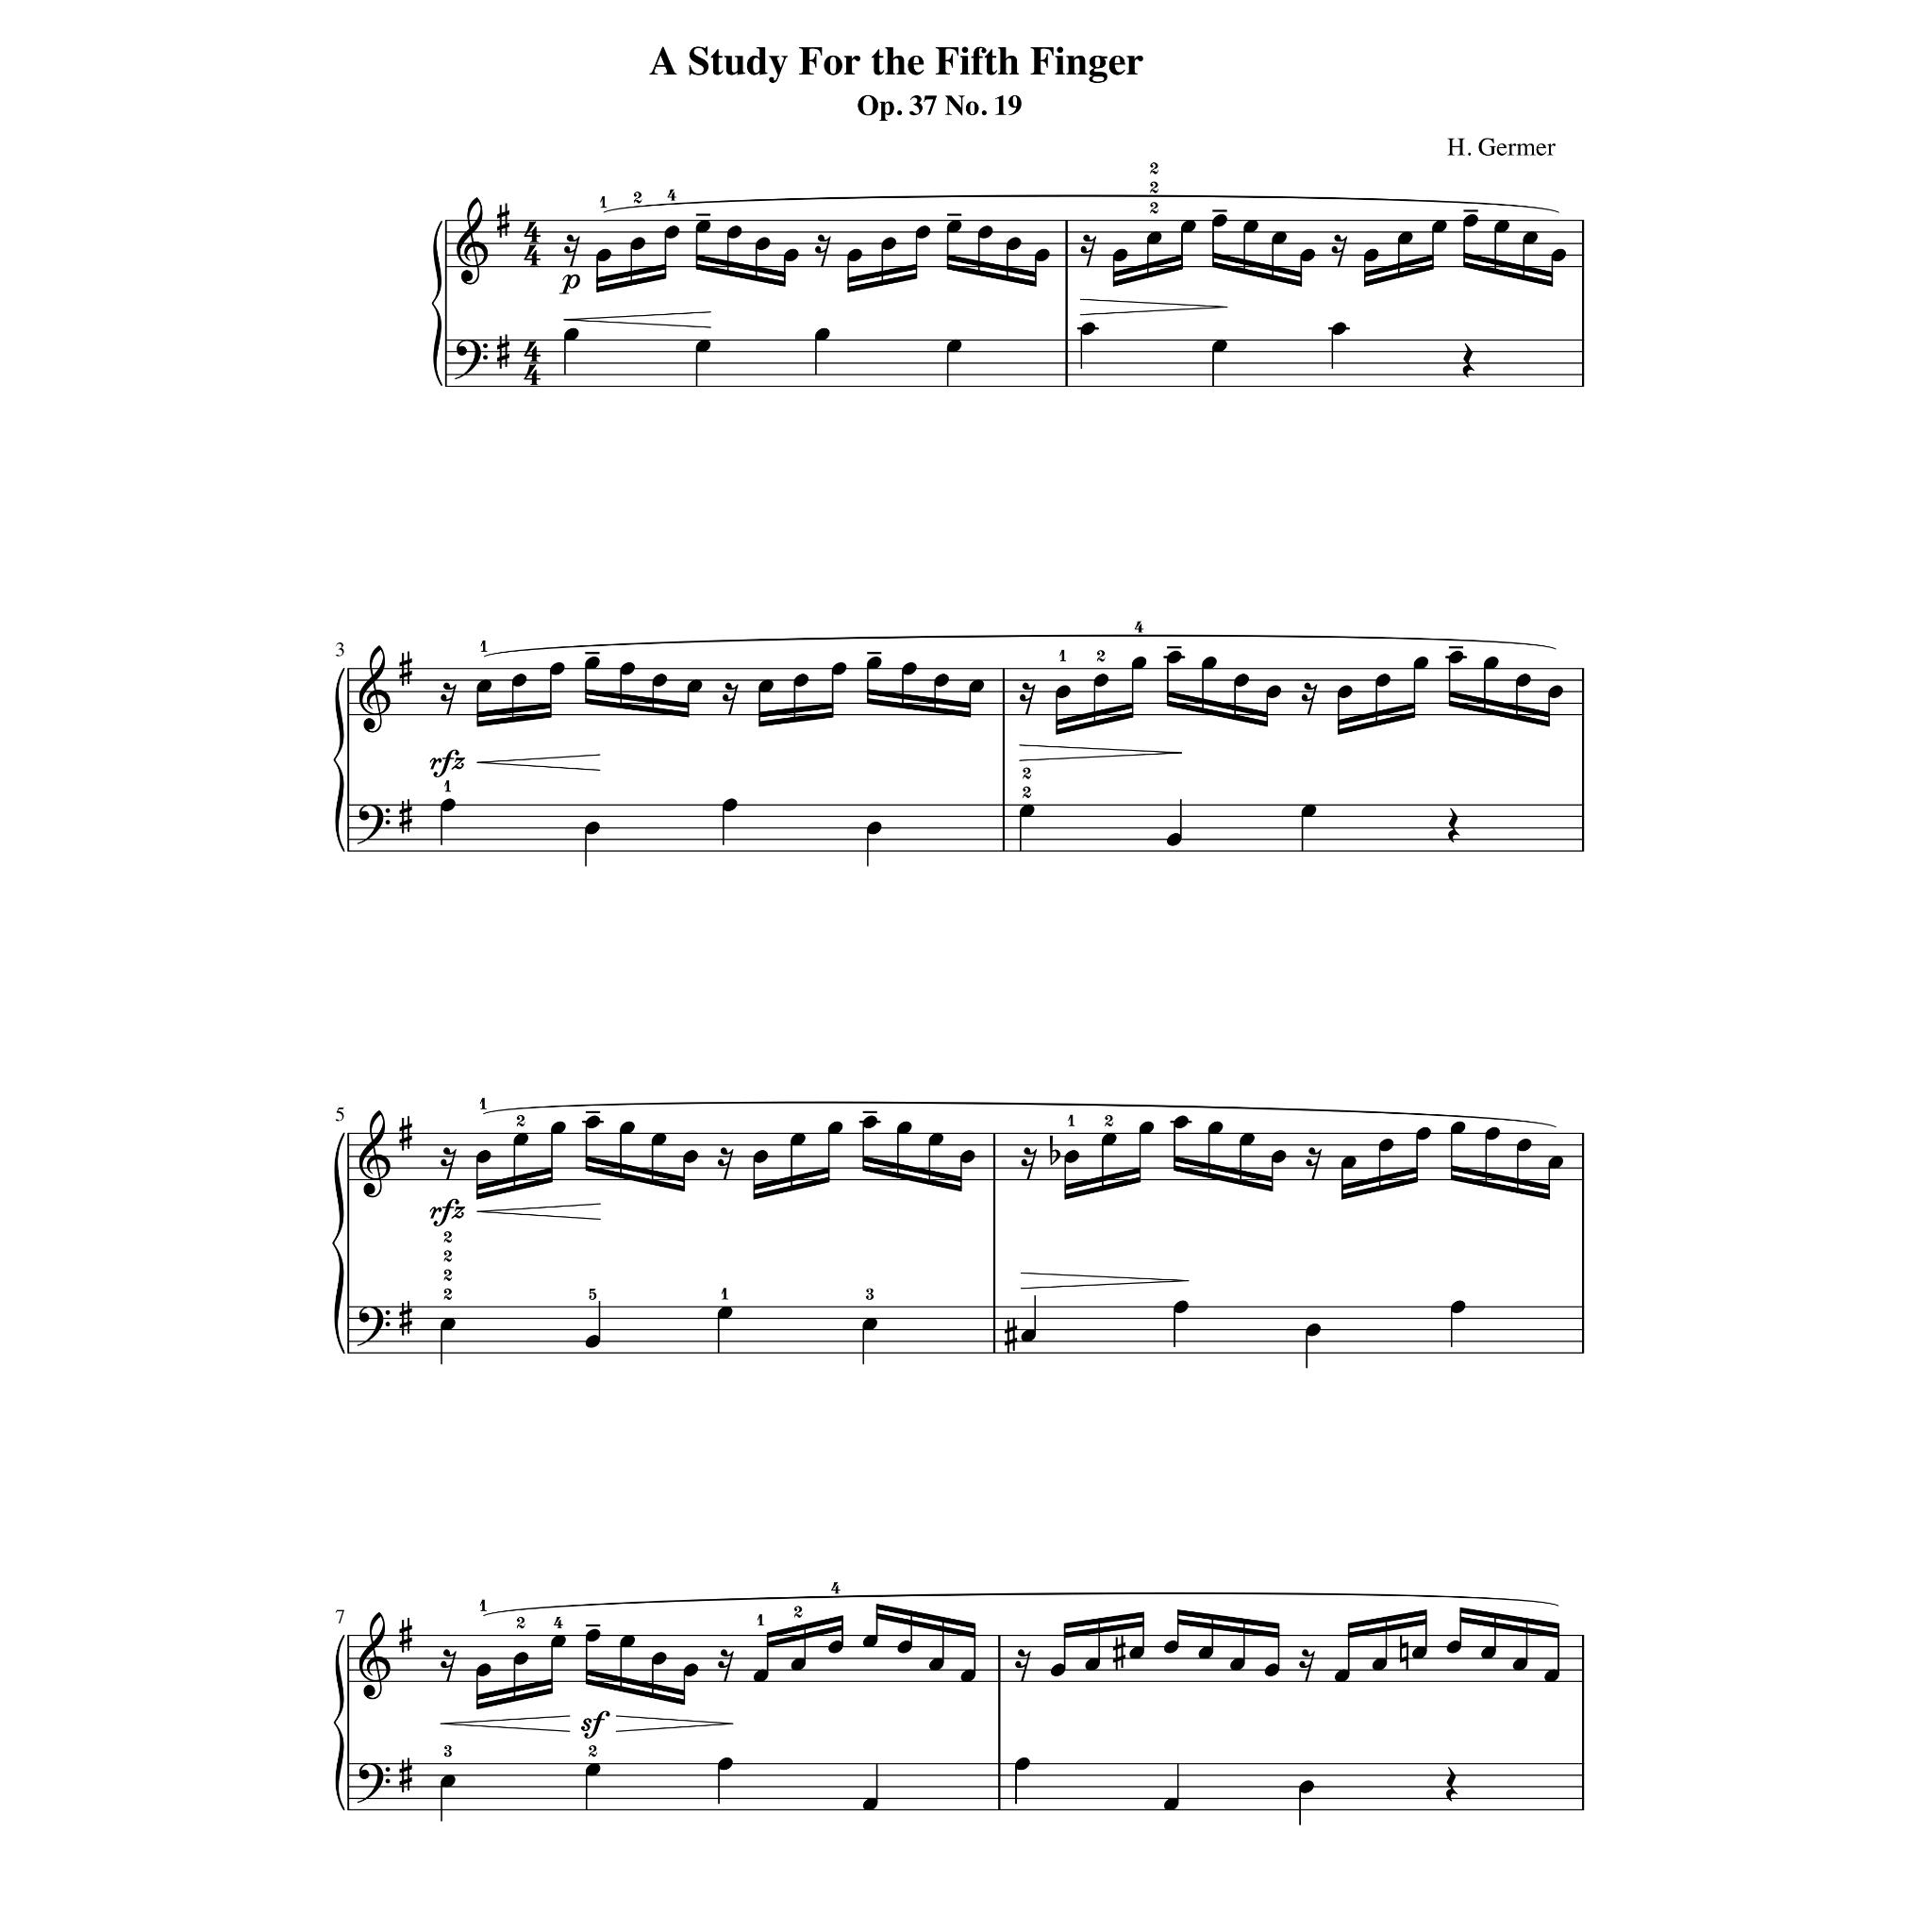brace: (331, 1132, 345, 1353), (333, 669, 345, 853), (333, 1635, 345, 1810), (432, 221, 442, 387)
fClef: (453, 340, 488, 380), (357, 1306, 391, 1346), (357, 1762, 391, 1803), (357, 805, 391, 844)
gClef: (456, 196, 488, 287), (359, 646, 391, 734), (359, 1109, 391, 1198), (359, 1612, 391, 1700)
noteheadBlack: (1242, 219, 1260, 234), (1270, 232, 1288, 246), (1412, 656, 1430, 671), (901, 662, 918, 676), (830, 662, 847, 676), (1511, 1658, 1529, 1672), (1212, 214, 1228, 228), (1330, 322, 1346, 336), (1180, 219, 1196, 234), (1146, 232, 1162, 246), (1522, 232, 1537, 246), (1431, 219, 1447, 234), (1396, 232, 1412, 246), (1493, 219, 1509, 234), (1463, 214, 1479, 228), (695, 219, 711, 234), (663, 225, 679, 239), (754, 237, 770, 251), (630, 237, 646, 251), (725, 225, 741, 239), (977, 225, 993, 239), (947, 219, 962, 234), (915, 225, 931, 239), (1079, 322, 1095, 336), (1005, 237, 1021, 251), (881, 237, 897, 251), (1131, 656, 1146, 671), (1166, 651, 1182, 665), (1201, 656, 1217, 671), (1483, 656, 1499, 671), (1447, 651, 1463, 665), (584, 821, 600, 835), (584, 656, 600, 671), (550, 662, 566, 676), (686, 679, 702, 694), (619, 662, 635, 676), (476, 679, 492, 694), (441, 798, 456, 812), (867, 821, 883, 835), (867, 656, 883, 671), (968, 679, 984, 694), (722, 798, 738, 812), (757, 679, 773, 694), (1173, 1299, 1189, 1313), (1173, 1115, 1189, 1129), (1238, 1132, 1254, 1146), (1021, 1329, 1037, 1343), (1100, 1132, 1116, 1146), (1548, 1155, 1564, 1169), (1341, 1155, 1357, 1169), (1306, 1323, 1322, 1338), (1484, 1127, 1500, 1141), (1451, 1299, 1467, 1313), (1415, 1127, 1431, 1141), (584, 1115, 600, 1129), (513, 1132, 529, 1146), (651, 1132, 667, 1146), (584, 1334, 600, 1348), (862, 1115, 878, 1129), (791, 1132, 807, 1146), (927, 1132, 943, 1146), (717, 1306, 732, 1320), (1198, 1645, 1214, 1660), (1162, 1798, 1178, 1812), (1162, 1640, 1178, 1654), (1299, 1780, 1315, 1794), (1263, 1663, 1279, 1677), (1230, 1658, 1246, 1672), (1014, 1757, 1030, 1771), (1129, 1645, 1145, 1660), (1085, 1658, 1100, 1672), (1049, 1663, 1065, 1677), (1545, 1668, 1560, 1683), (1410, 1645, 1426, 1660), (1371, 1658, 1387, 1672), (1334, 1668, 1350, 1683), (1481, 1645, 1497, 1660), (1445, 1640, 1461, 1654), (584, 1629, 600, 1644), (550, 1635, 566, 1649), (619, 1635, 635, 1649), (476, 1663, 492, 1677), (862, 1798, 878, 1812), (862, 1635, 878, 1649), (826, 1640, 842, 1654), (927, 1658, 943, 1672), (961, 1668, 977, 1683), (683, 1663, 699, 1677), (897, 1640, 913, 1654), (718, 1757, 734, 1771), (752, 1668, 768, 1683), (791, 1658, 807, 1672), (1212, 340, 1228, 352), (1111, 249, 1127, 262), (1550, 249, 1566, 262), (1362, 249, 1378, 262), (695, 340, 711, 352), (782, 249, 798, 262), (564, 329, 580, 341), (596, 249, 612, 262), (947, 340, 962, 352), (1033, 249, 1049, 262), (847, 249, 863, 262), (814, 329, 830, 341), (1166, 833, 1182, 846), (1300, 805, 1316, 817), (1265, 686, 1281, 699), (1233, 674, 1249, 686), (1093, 674, 1109, 686), (1054, 686, 1070, 699), (1548, 686, 1564, 699), (1516, 674, 1532, 686), (1375, 674, 1391, 686), (511, 674, 527, 686), (651, 674, 667, 686), (1019, 805, 1035, 817), (934, 674, 950, 686), (793, 674, 809, 686), (1138, 1122, 1154, 1134), (1270, 1150, 1286, 1162), (1207, 1122, 1223, 1134), (1063, 1150, 1079, 1162), (1516, 1139, 1532, 1152), (1378, 1139, 1394, 1152), (1451, 1122, 1467, 1134), (550, 1122, 566, 1134), (476, 1150, 492, 1162), (619, 1122, 635, 1134), (441, 1318, 456, 1330), (862, 1318, 878, 1330), (826, 1122, 842, 1134), (961, 1150, 977, 1162), (895, 1122, 911, 1134), (683, 1150, 699, 1162), (752, 1150, 768, 1162), (584, 1764, 600, 1776), (513, 1652, 529, 1665), (441, 1775, 456, 1787), (1300, 249, 1315, 262), (1338, 686, 1352, 699), (651, 1652, 665, 1665)
rest16th: (1019, 1146, 1037, 1182), (1306, 1146, 1323, 1182), (439, 1146, 456, 1182), (717, 1146, 734, 1182), (1014, 1649, 1031, 1683), (439, 1649, 456, 1683), (717, 1649, 734, 1683), (563, 235, 580, 267), (1079, 235, 1097, 267), (814, 235, 832, 267), (1300, 683, 1318, 715), (439, 683, 456, 715), (1299, 1649, 1315, 1683), (1330, 235, 1346, 267), (1019, 683, 1035, 715), (722, 683, 738, 715)
restQuarter: (1447, 807, 1460, 844), (1461, 343, 1474, 379), (1445, 1766, 1458, 1801)
